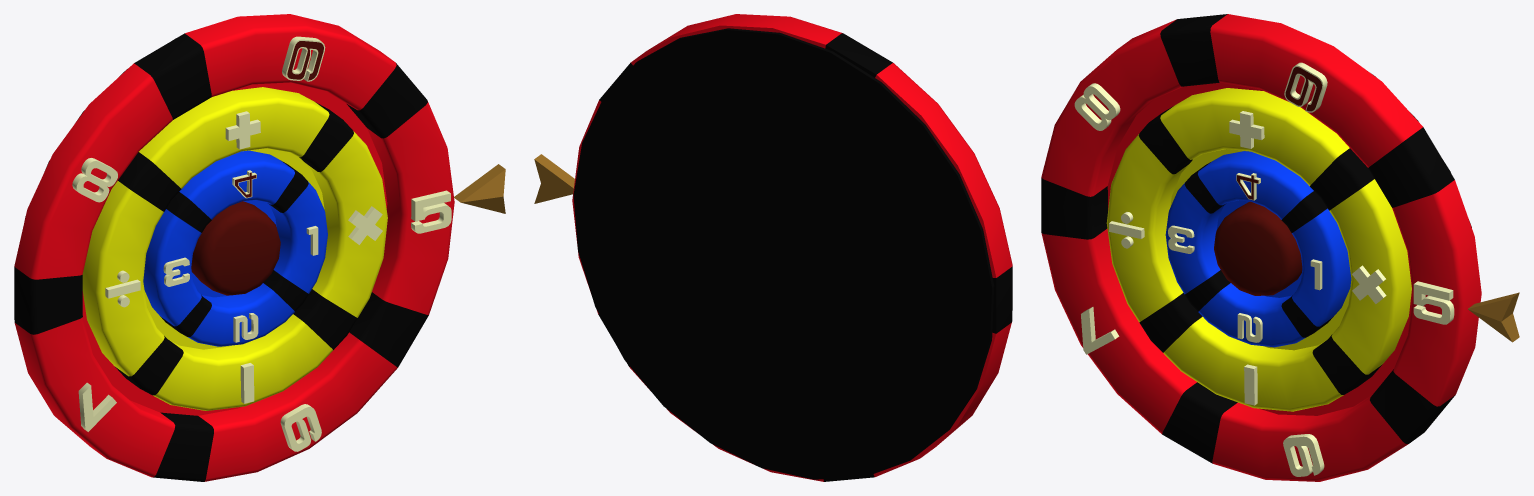
File: BarabanVar2Sparava.fbx
3 views of the same model, side by side, from view 1: azimuth 30°, elevation 25°; view 2: azimuth 150°, elevation 25°; view 3: azimuth 330°, elevation 25° (orthographic).
Parts seen in each view (by area): view 1: big krug, middle krug, small krug, center, strelka; view 2: big krug, strelka; view 3: big krug, middle krug, small krug, center, strelka.
Part boxes in pixels (box(x1,y1,x2,y2)): big krug: box(14, 14, 454, 481); middle krug: box(82, 87, 387, 410); small krug: box(143, 150, 327, 346); center: box(191, 201, 280, 295); strelka: box(454, 164, 505, 213); big krug: box(572, 14, 1012, 481); strelka: box(534, 154, 574, 203); big krug: box(1041, 14, 1481, 481); middle krug: box(1106, 88, 1411, 411); small krug: box(1165, 151, 1351, 347); center: box(1214, 201, 1302, 295); strelka: box(1468, 292, 1519, 342).
Size of the model in its own units: 769 by 690 by 69.95.
